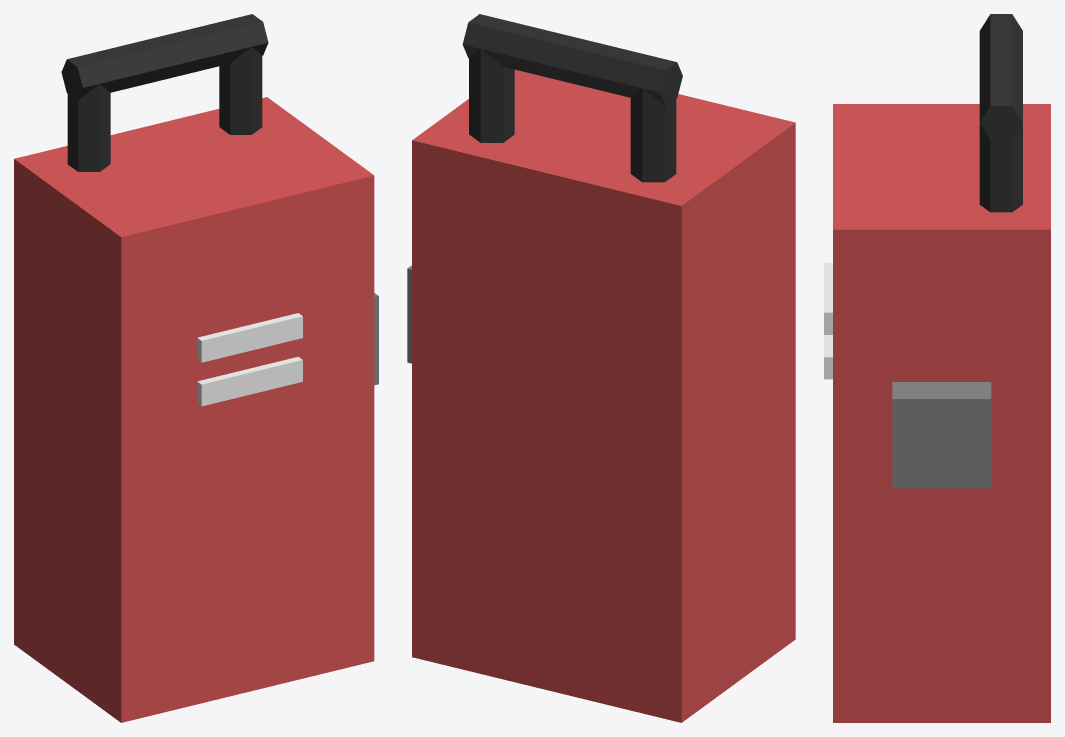
The model's file is ce_ammo2_flame_napalm_a.obj.
3 renders of one model, left to right at view 1: azimuth 30°, elevation 25°; view 2: azimuth 150°, elevation 25°; view 3: azimuth 270°, elevation 25°, orthographic. The views are drawn at different scales.
Visible parts, largest first — view 1: ce_ammo2_flame_napalm_a_0, ce_ammo2_flame_napalm_a_6, ce_ammo2_flame_napalm_a_5, ce_ammo2_flame_napalm_a_4, ce_ammo2_flame_napalm_a_2, ce_ammo2_flame_napalm_a_1; view 2: ce_ammo2_flame_napalm_a_0, ce_ammo2_flame_napalm_a_6, ce_ammo2_flame_napalm_a_5, ce_ammo2_flame_napalm_a_4; view 3: ce_ammo2_flame_napalm_a_0, ce_ammo2_flame_napalm_a_3, ce_ammo2_flame_napalm_a_6, ce_ammo2_flame_napalm_a_4, ce_ammo2_flame_napalm_a_2, ce_ammo2_flame_napalm_a_1.
Part boxes in pixels (<box>): ce_ammo2_flame_napalm_a_0: <box>14,97,374,722</box>; ce_ammo2_flame_napalm_a_6: <box>61,14,268,100</box>; ce_ammo2_flame_napalm_a_5: <box>67,84,110,171</box>; ce_ammo2_flame_napalm_a_4: <box>219,47,262,134</box>; ce_ammo2_flame_napalm_a_2: <box>197,313,302,362</box>; ce_ammo2_flame_napalm_a_1: <box>197,356,302,406</box>; ce_ammo2_flame_napalm_a_0: <box>412,69,795,722</box>; ce_ammo2_flame_napalm_a_6: <box>462,14,682,106</box>; ce_ammo2_flame_napalm_a_5: <box>630,88,676,182</box>; ce_ammo2_flame_napalm_a_4: <box>469,49,514,142</box>; ce_ammo2_flame_napalm_a_0: <box>833,104,1050,722</box>; ce_ammo2_flame_napalm_a_3: <box>892,382,991,488</box>; ce_ammo2_flame_napalm_a_6: <box>979,14,1022,140</box>; ce_ammo2_flame_napalm_a_4: <box>979,124,1022,212</box>; ce_ammo2_flame_napalm_a_2: <box>824,262,832,334</box>; ce_ammo2_flame_napalm_a_1: <box>824,335,832,379</box>.
Size of the model in its own units: 0.34 by 0.6691 by 0.229.
